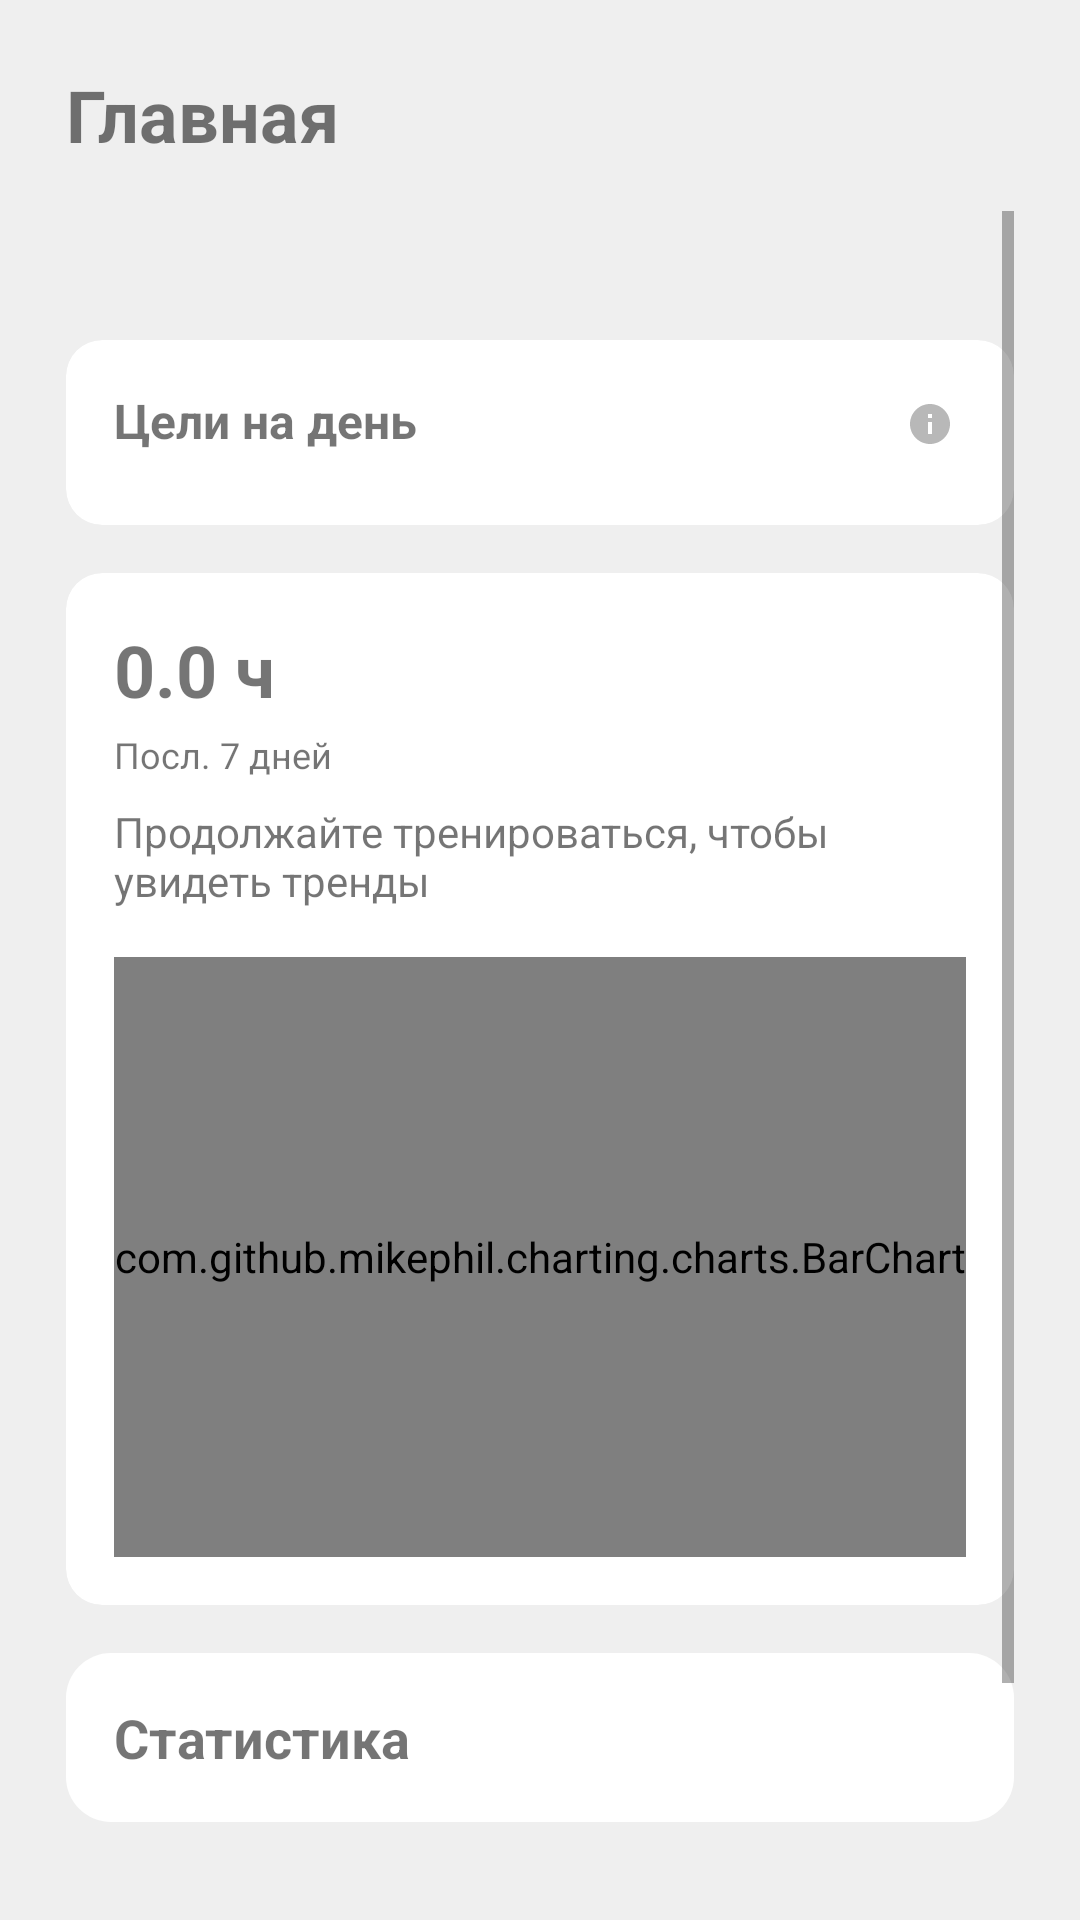

Where icons sit on this 1080×1920 app screen, as {"left": x1, "top": y1, "right": x2, "bottom": y2}:
Информация о целях: {"left": 910, "top": 404, "right": 950, "bottom": 444}
